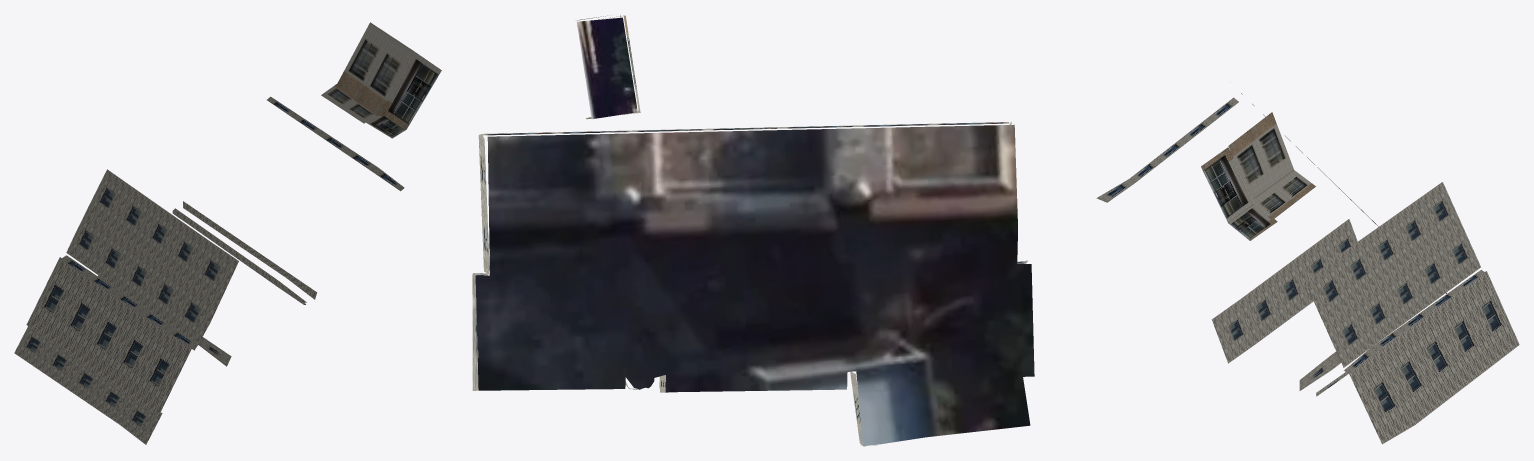
File: tile_LOD4_r2_c6.glb
3 views of the same model, side by side, from view 1: azimuth 30°, elevation 25°; view 2: azimuth 150°, elevation 25°; view 3: azimuth 270°, elevation 25° (orthographic). The views are drawn at different scales.
Bounding box in the file's own units: 48.75 × 34.25 × 41.5.
Materials: 8 (8 with a texture image).
